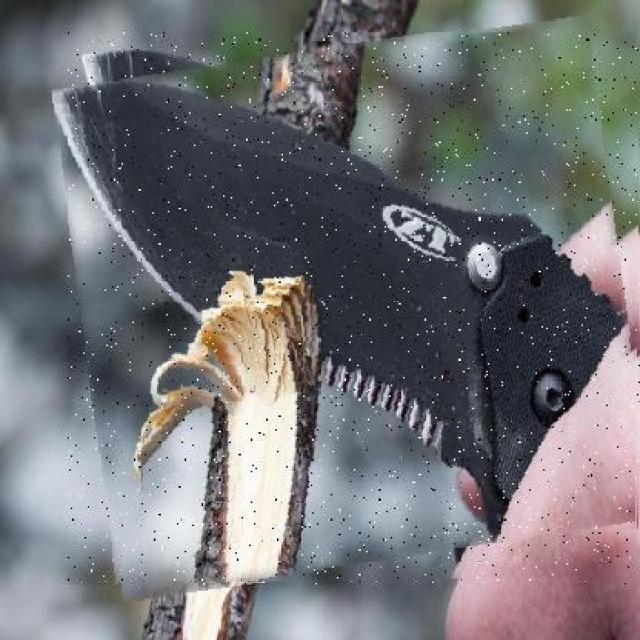knife: (67, 32, 640, 584)
